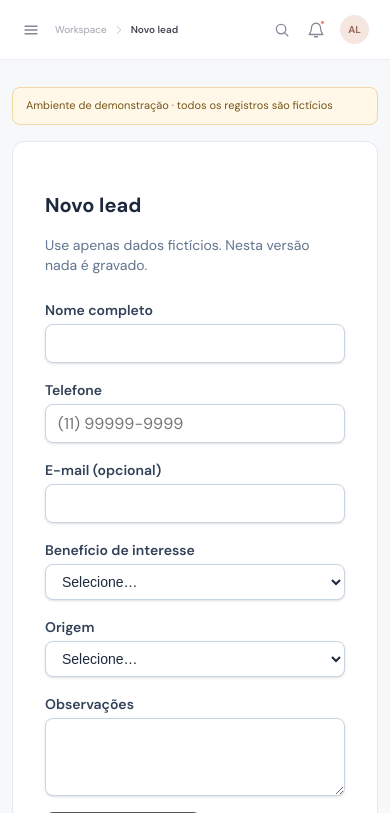
Formulário de novo lead › rejeita e-mail em formato inválido
Type "Maria Fictícia" into the field labelled "Nome completo" at {"x": 195, "y": 344}, box [45,324,345,363]
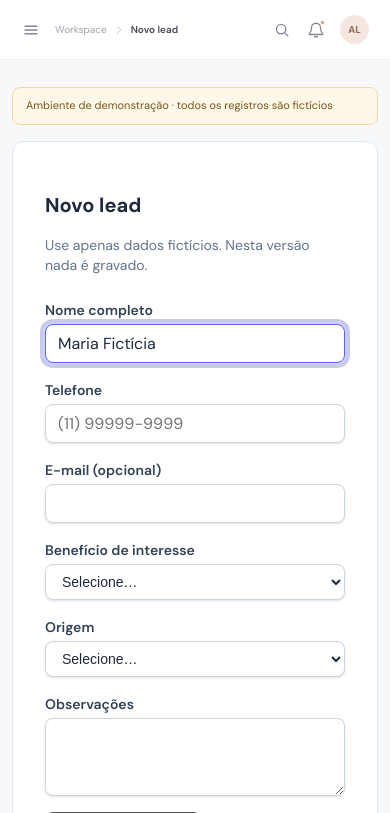
Type "(11) 99999-0000" into the field labelled "Telefone" at {"x": 195, "y": 424}, box [45,404,345,443]
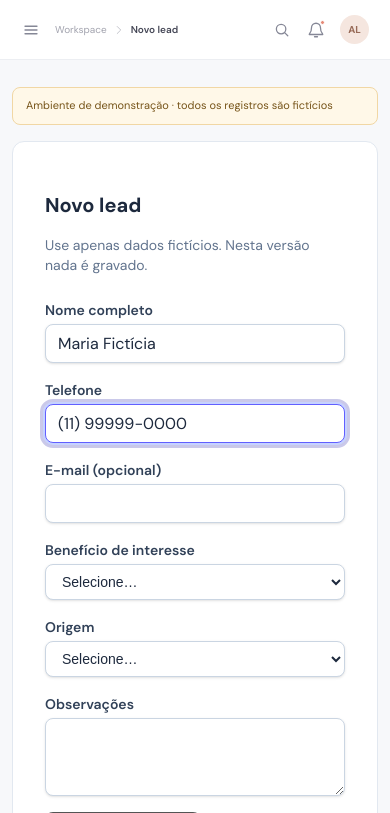
Select "BPC/LOAS" in the dropdown labelled "Benefício de interesse" at {"x": 195, "y": 582}, box [45,564,345,600]
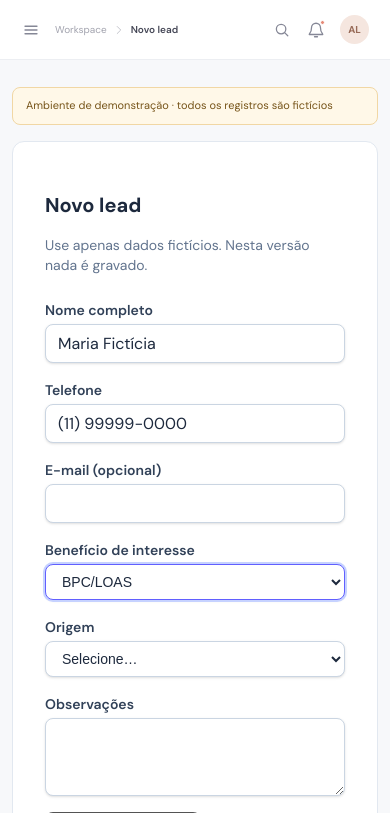
Select "Site" in the dropdown labelled "Origem" at {"x": 195, "y": 659}, box [45,641,345,677]
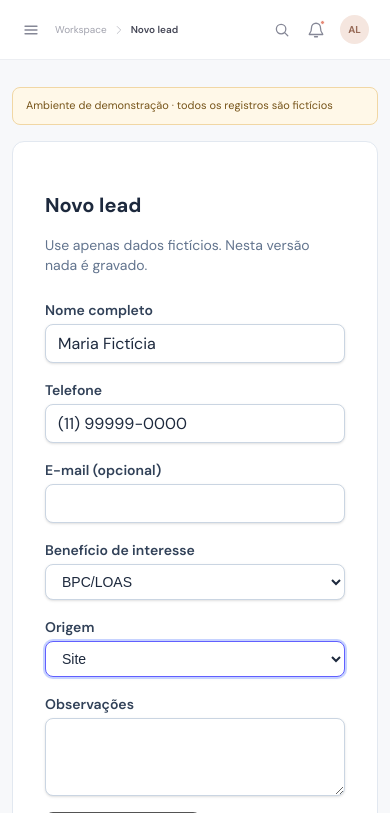
Type "sem-arroba" into the field labelled "E-mail (opcional)" at {"x": 195, "y": 504}, box [45,484,345,523]
(page scrolled)
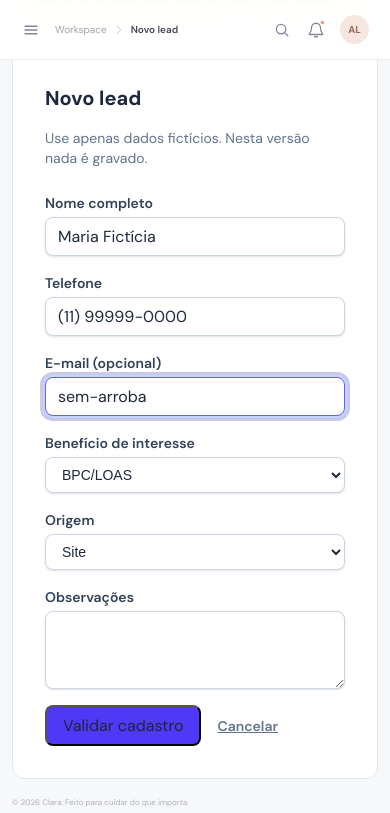
Click the button "Validar cadastro" at {"x": 123, "y": 726}, box [45,705,202,746]
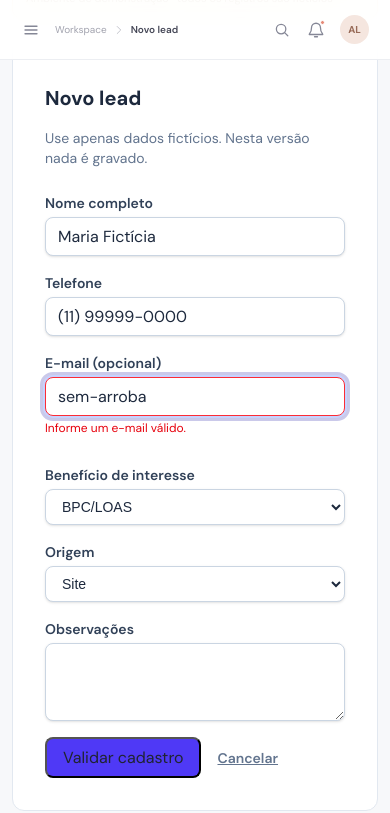
Expected: the text "Informe um e-mail válido." is shown, [45,420,186,436]
